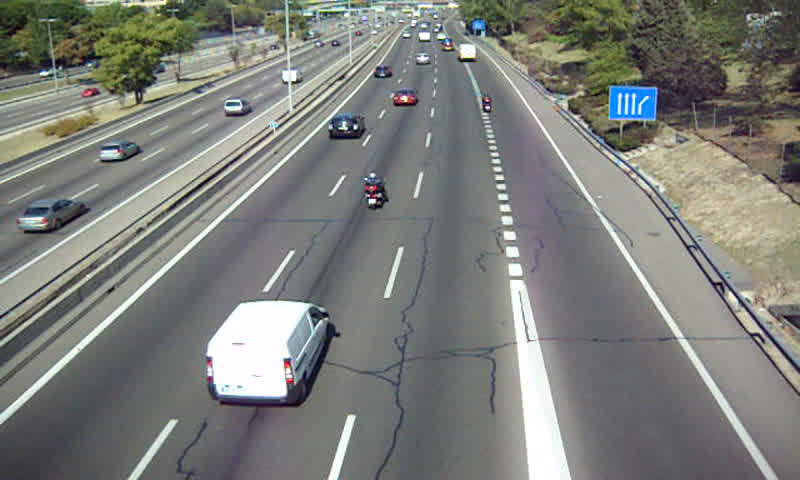car: (325, 114, 365, 139), (392, 88, 417, 105), (372, 64, 392, 77), (414, 52, 429, 66)
motorcycle: (361, 173, 385, 212), (481, 92, 491, 114)
van: (205, 301, 330, 406), (458, 42, 477, 62)
